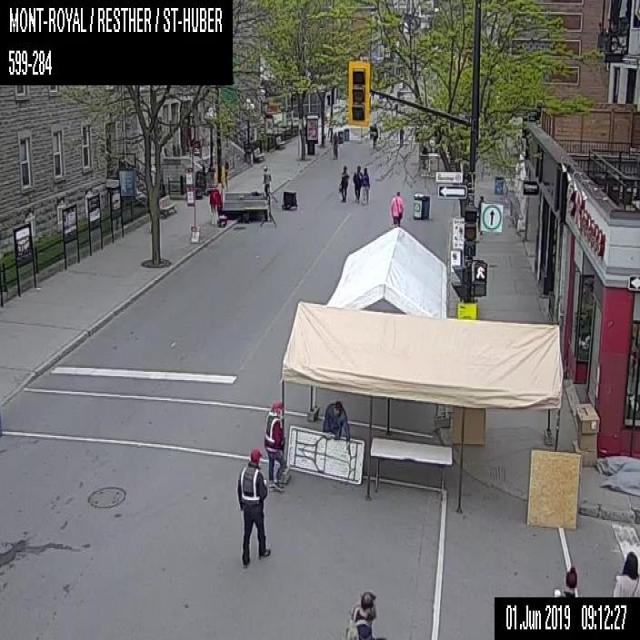pedestrian: (236, 446, 269, 568), (341, 590, 385, 639), (264, 401, 286, 491), (610, 549, 639, 595), (323, 400, 349, 437), (551, 564, 578, 596), (390, 190, 403, 226), (351, 164, 362, 202), (209, 186, 220, 224), (338, 164, 348, 202), (261, 165, 271, 198), (475, 194, 483, 234), (362, 166, 369, 202), (331, 130, 338, 158), (371, 122, 377, 148), (398, 125, 404, 146), (224, 159, 228, 189)
